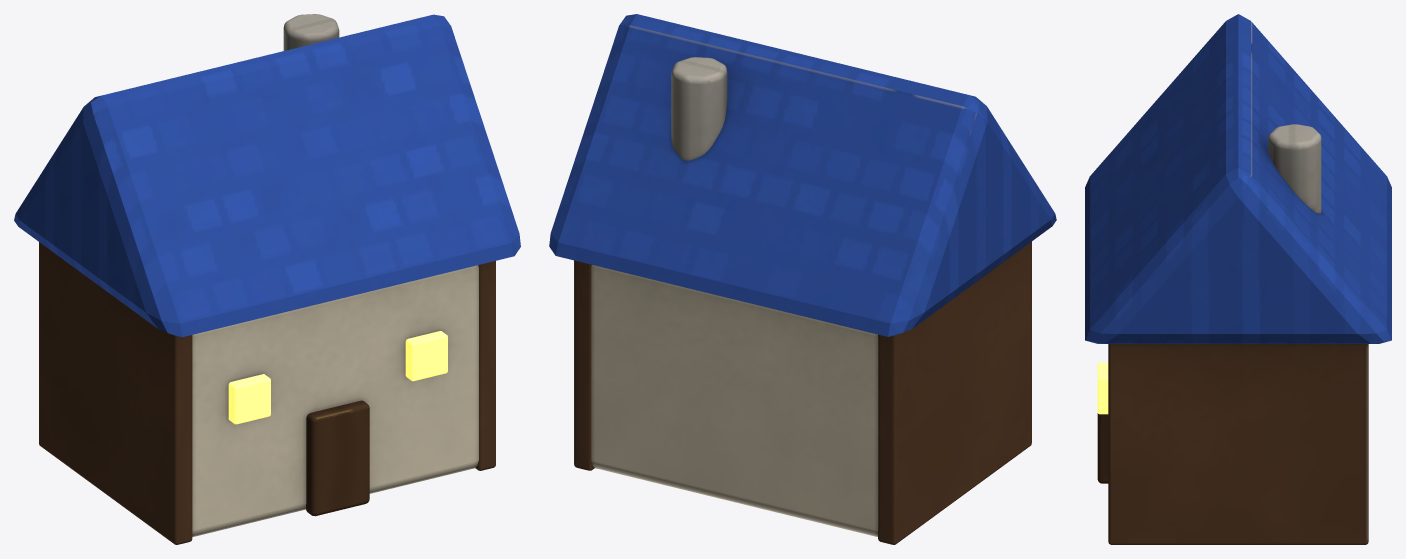
The model's file is house_blue.glb.
The picture shows the model from 3 angles, left to right: view 1: azimuth 30°, elevation 25°; view 2: azimuth 150°, elevation 25°; view 3: azimuth 270°, elevation 25°; orthographic projection. The views are drawn at different scales.
Visible parts, largest first — view 1: house; view 2: house; view 3: house.
Part boxes in pixels (x1=…): house: x1=14, y1=14, x2=520, y2=544; house: x1=549, y1=14, x2=1056, y2=544; house: x1=1085, y1=14, x2=1391, y2=544.
Size of the model in its own units: 0.5 by 0.5207 by 0.3809.
2 materials, 1 textured.
